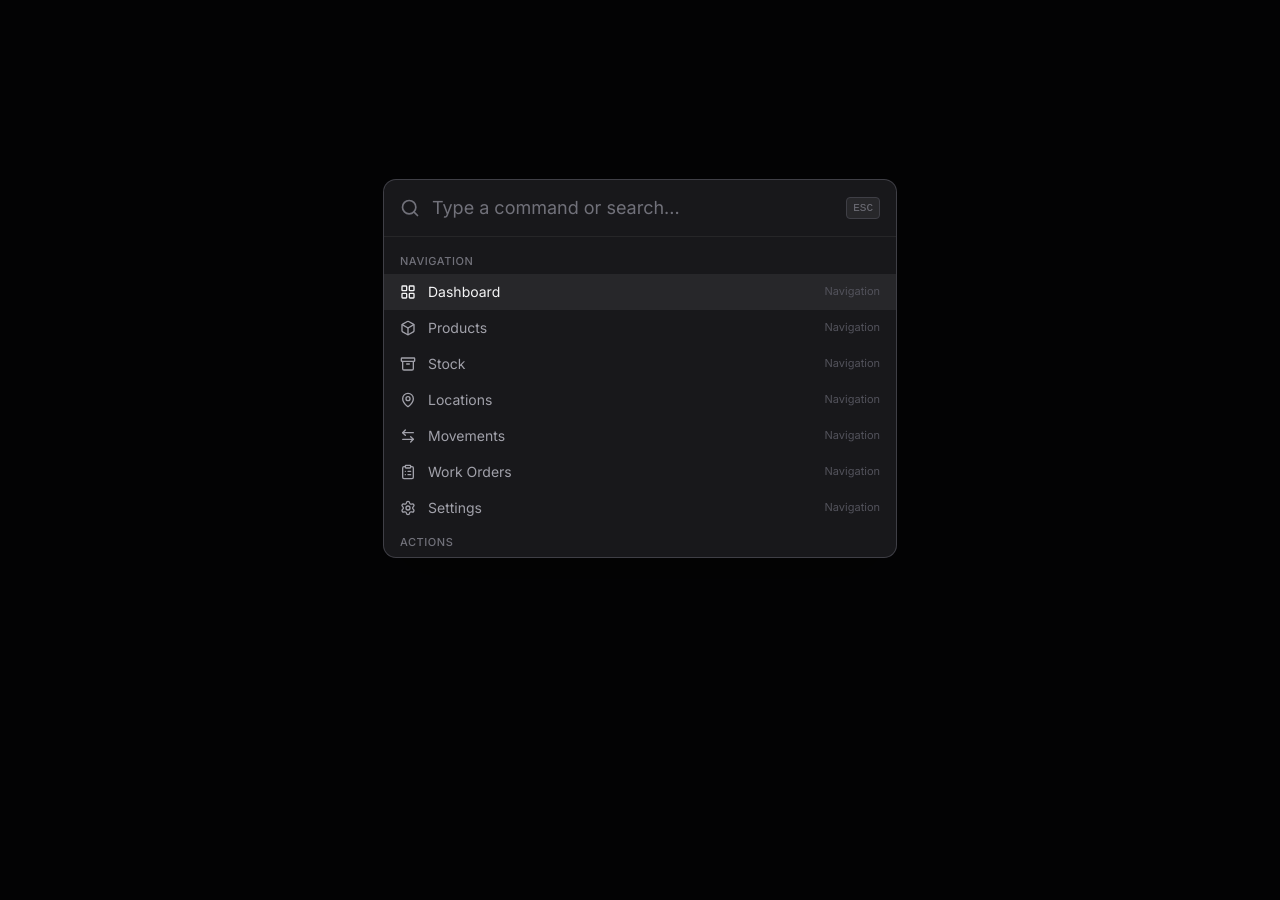
Test case: CommandPalette › matches on keywords
The width and height of the screenshot is (1280, 900).
Type "inbound" into the field with test id "command-palette-input". click: (633, 208)
box: [432, 180, 834, 236]
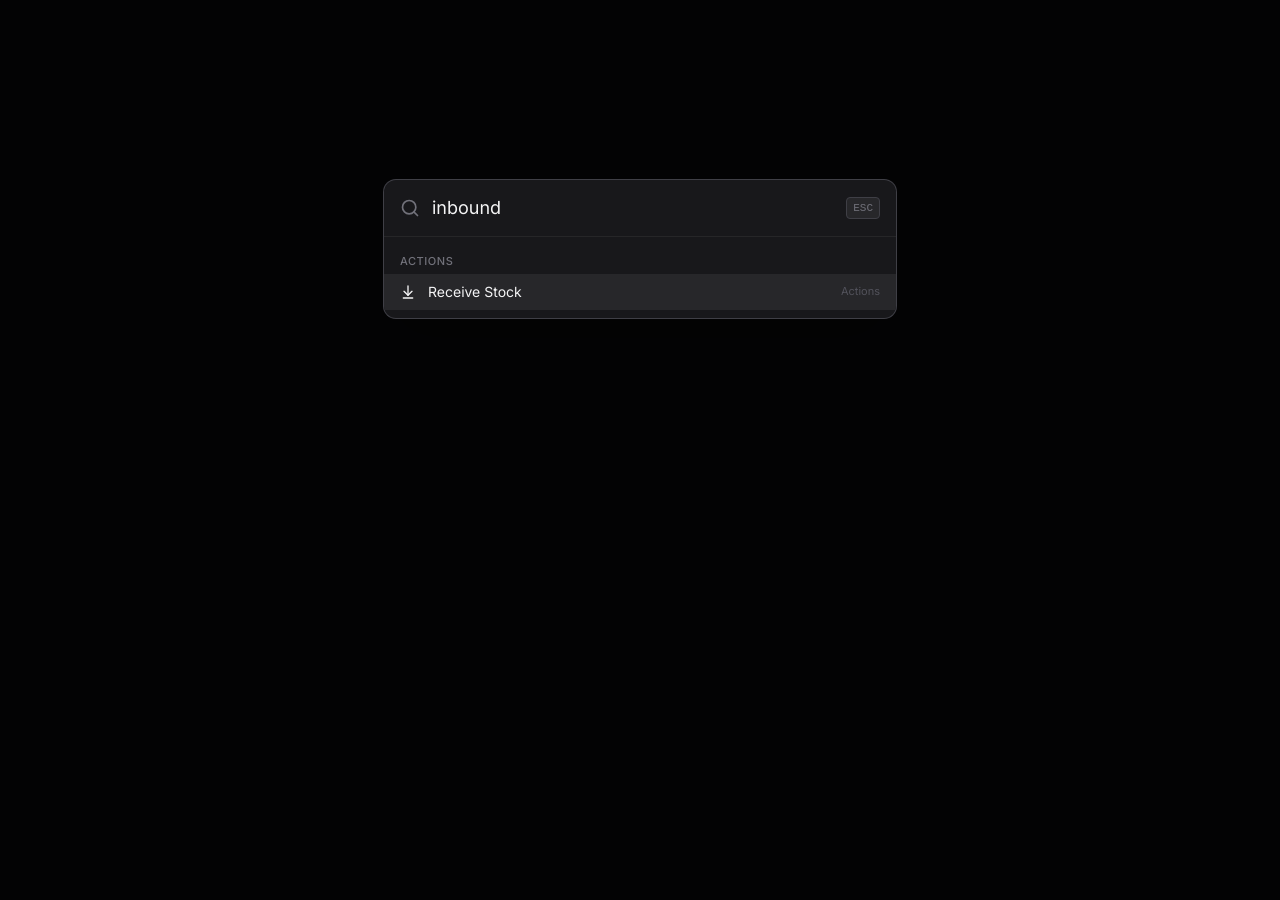
Result: the text "Receive Stock" is shown at [428, 282, 522, 300]
